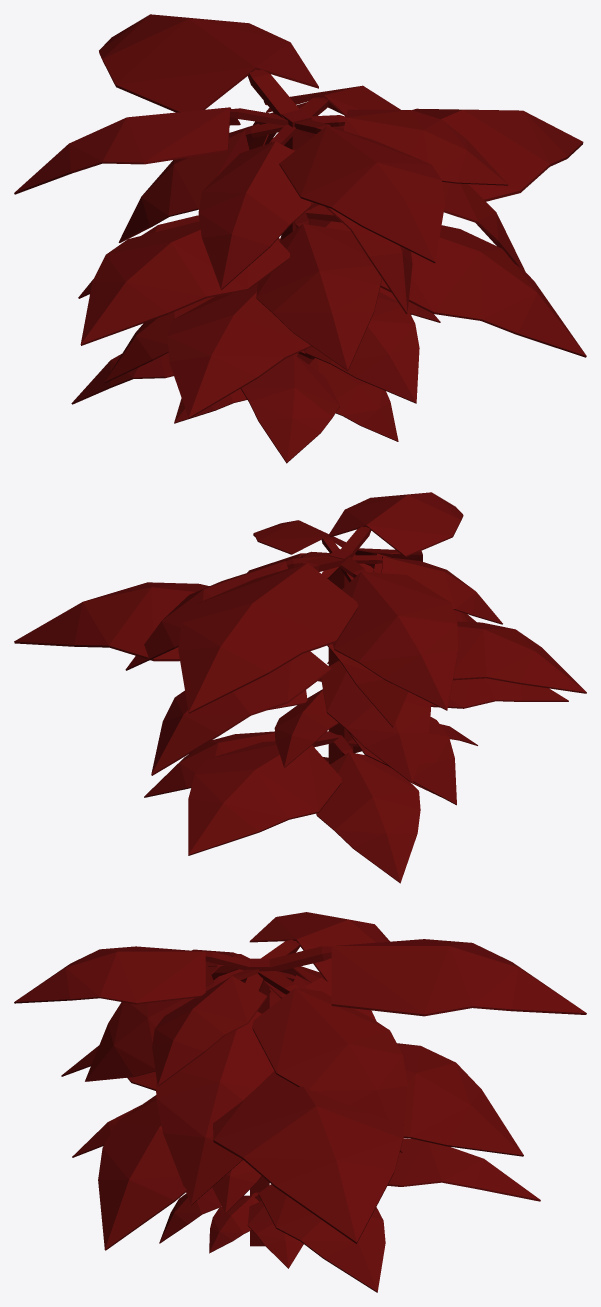
File: Plant_03.obj
3 renders of one model, top to bottom at view 1: azimuth 30°, elevation 25°; view 2: azimuth 150°, elevation 25°; view 3: azimuth 270°, elevation 25°, orthographic. The views are drawn at different scales.
Parts seen in each view (by area): view 1: Plant_03_Cube.036; view 2: Plant_03_Cube.036; view 3: Plant_03_Cube.036.
Part boxes in pixels (x1,y1,x2,y2): Plant_03_Cube.036: [14, 14, 586, 463]; Plant_03_Cube.036: [14, 492, 586, 883]; Plant_03_Cube.036: [14, 912, 586, 1292].
Size of the model in its own units: 8.48 by 4.53 by 7.95.
